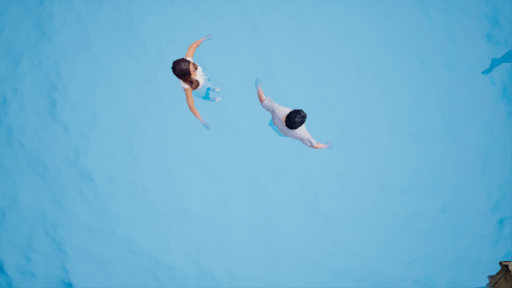person: (158, 30, 228, 130), (256, 79, 327, 152)
